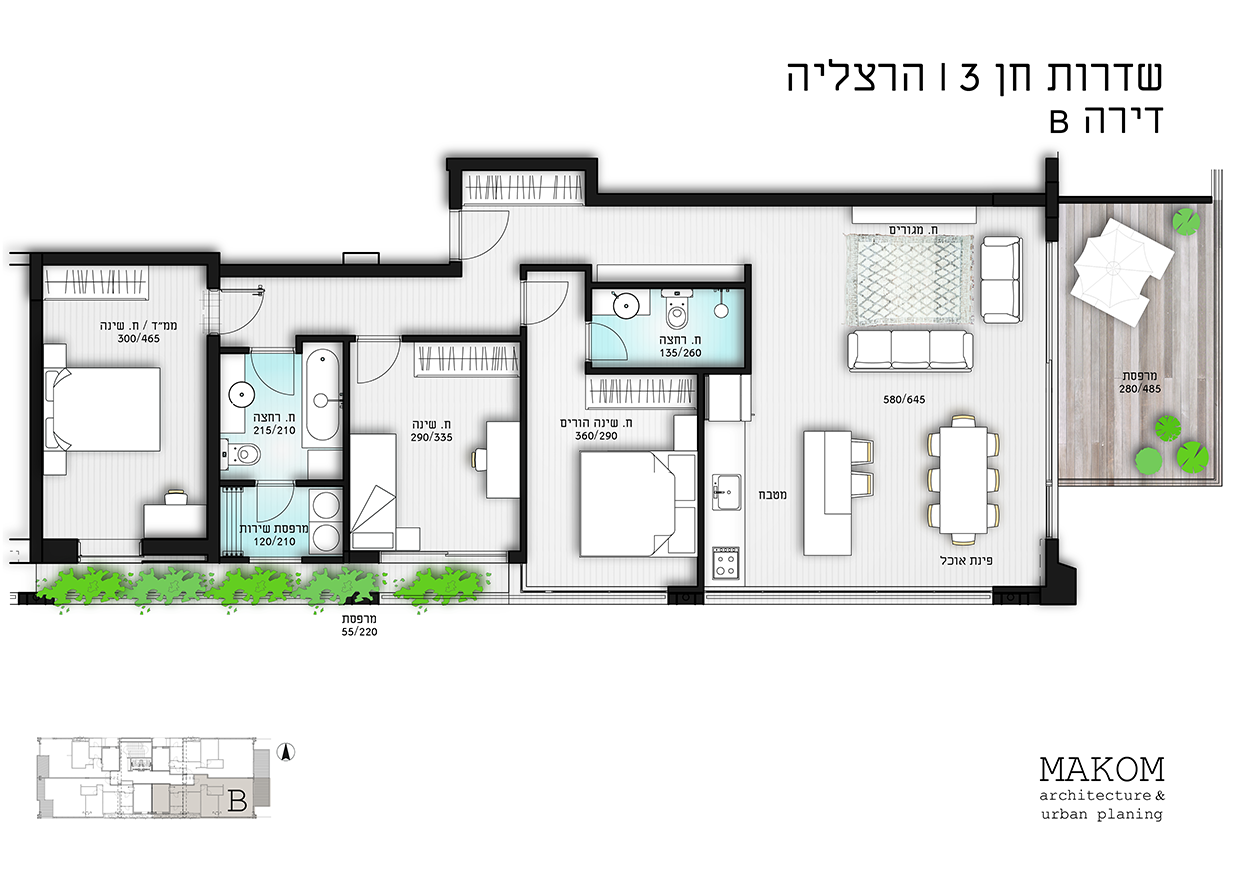door: (462, 207, 512, 260), (226, 284, 272, 335), (530, 276, 576, 327), (247, 354, 299, 399), (353, 342, 405, 387), (252, 485, 295, 526), (593, 320, 636, 361)
wall: (30, 253, 43, 562), (219, 264, 461, 277), (207, 336, 219, 539), (44, 253, 220, 266)
window: (1046, 241, 1057, 536), (381, 551, 508, 564)
